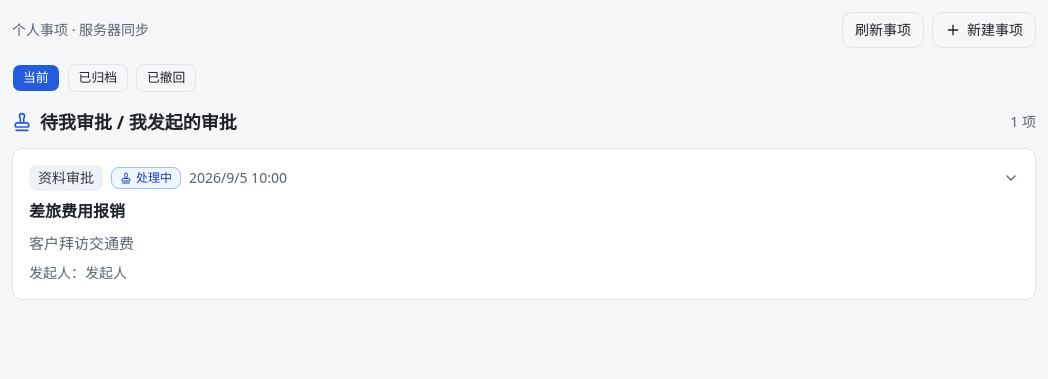
lets a history selection supersede an in-flight automatic refresh
Click the button "已归档". click: [98, 78]
box: [68,64,128,92]
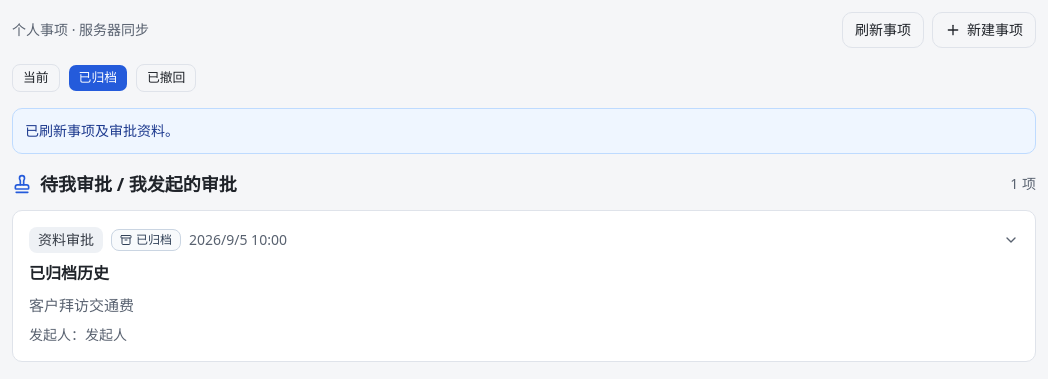
Check: the button with aria-label "事项概览：已归档历史" is shown, box [13,211,1035,361]
